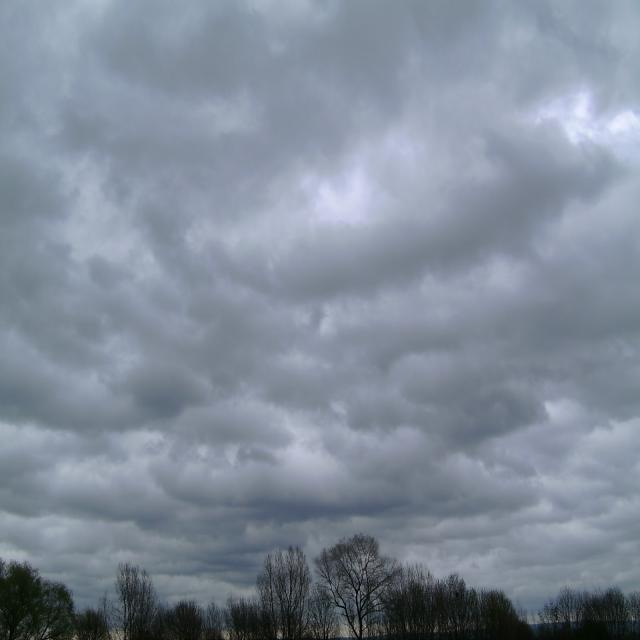nimbostratus: (7, 9, 640, 510)
